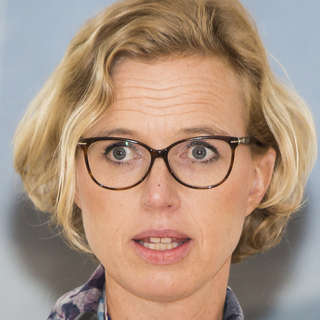eye: (180, 141, 224, 165), (100, 140, 142, 165)
